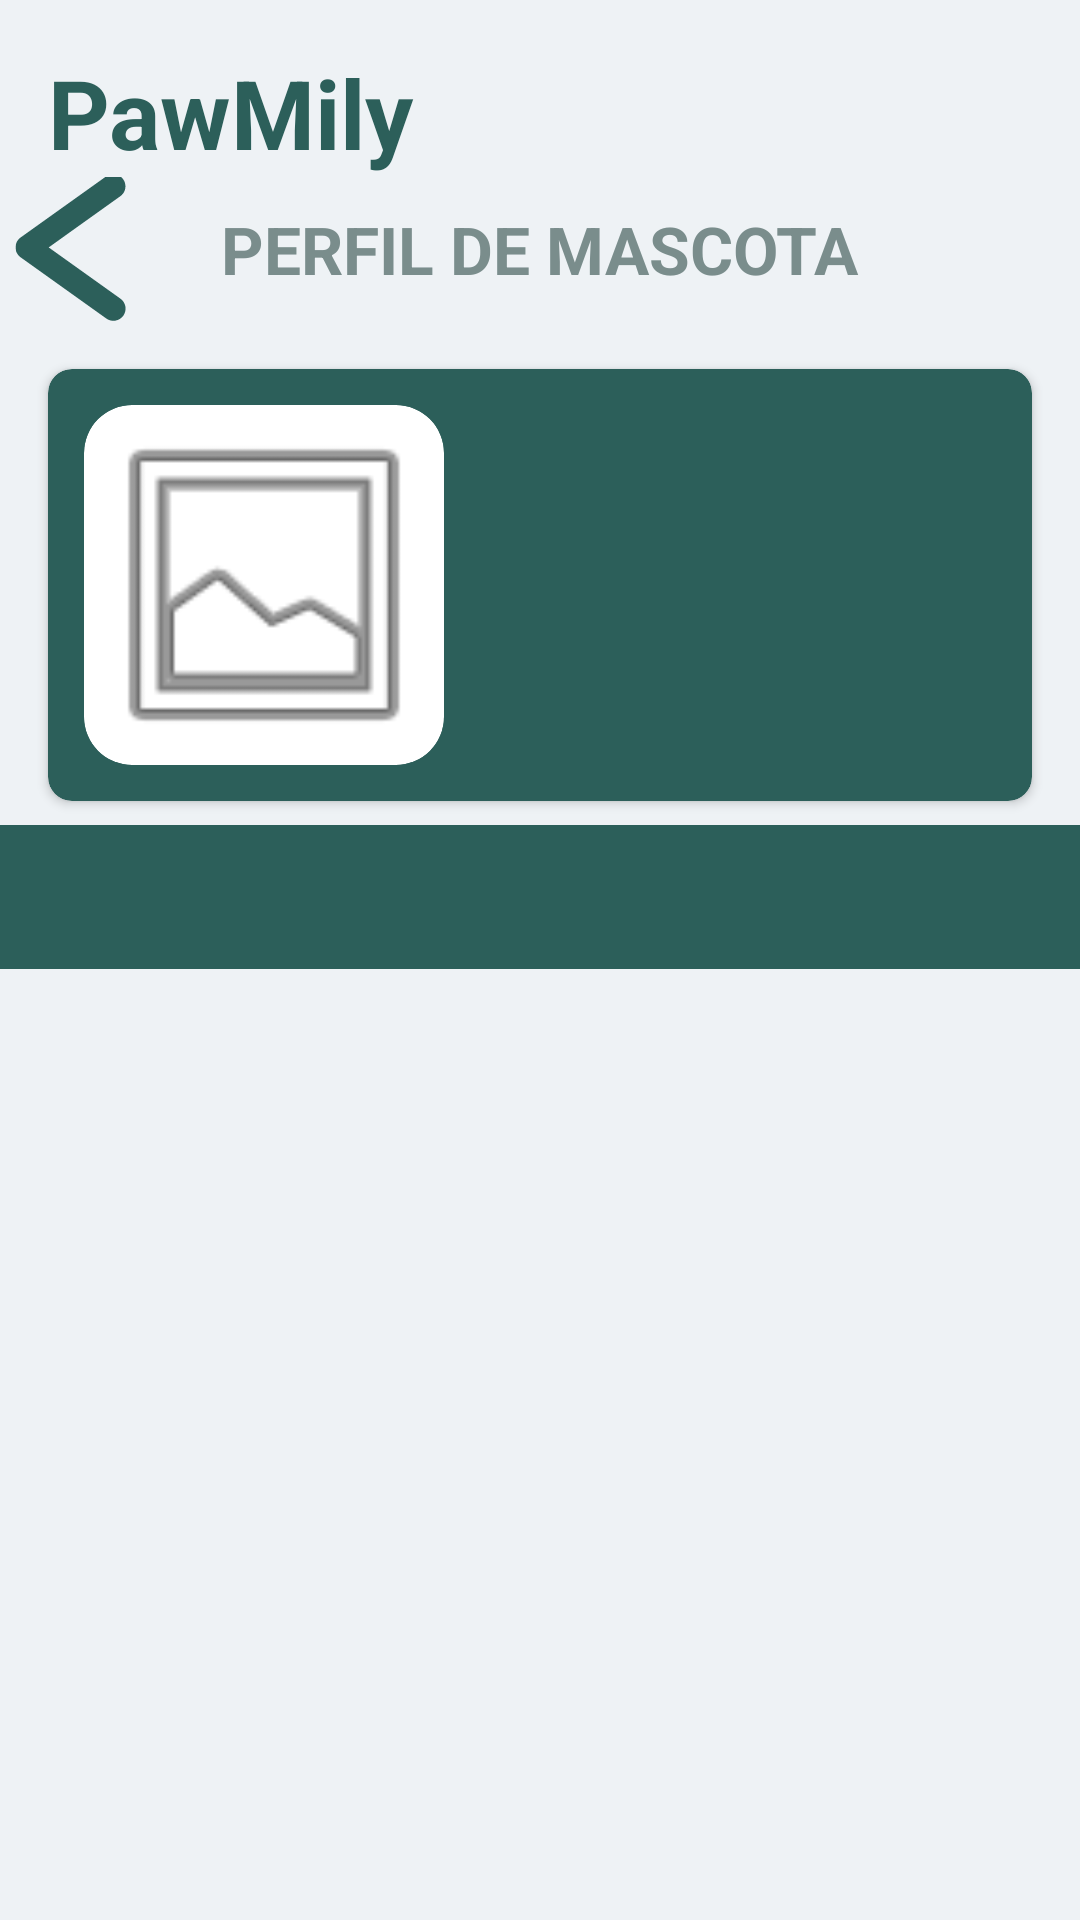

Locate icon controls on the screen. Image size 1080×1920, boxes as bbox=(x1, y1, x2, y2).
gallery: bbox=(84, 405, 444, 765)
left: bbox=(15, 177, 126, 321)
